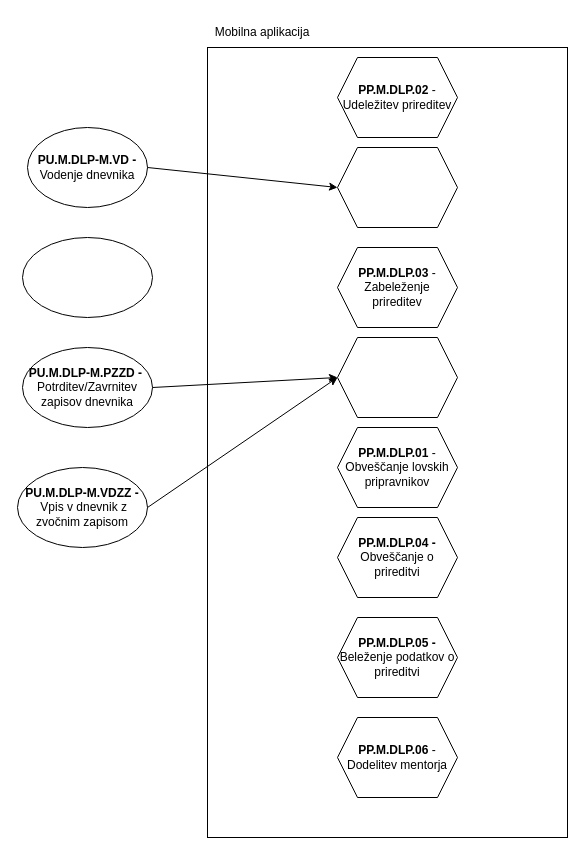
This 585x855 diagram has some shape labels left out. Here are the shapes that lost their labels. From the top down, the centre of each, then its label:
At (397,187): "PP.M.DLP.07 - Vodenje dnevnika".
At (87,277): "PU.M.DLP-M.PD - Pregled dnevnika".
At (397,377): "PP.M.DLP.08 - Beleženje v dnevnik".
